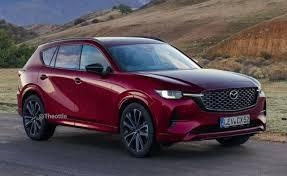mazda: (226, 87, 242, 103)
